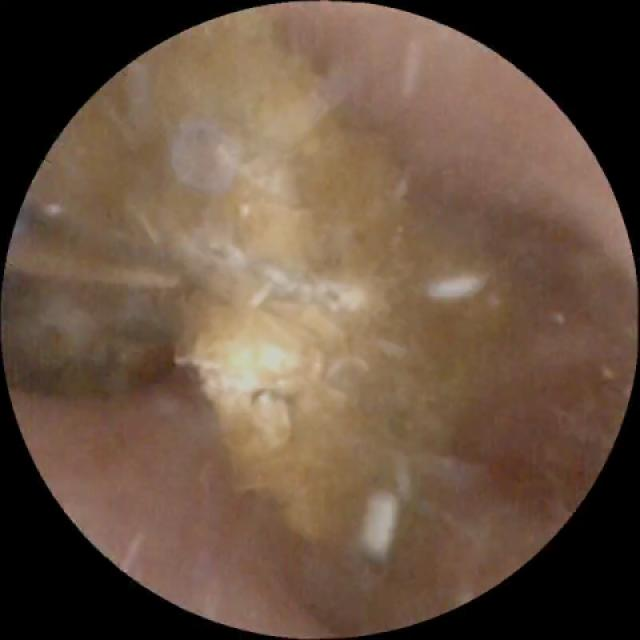stone: (14, 15, 521, 548)
